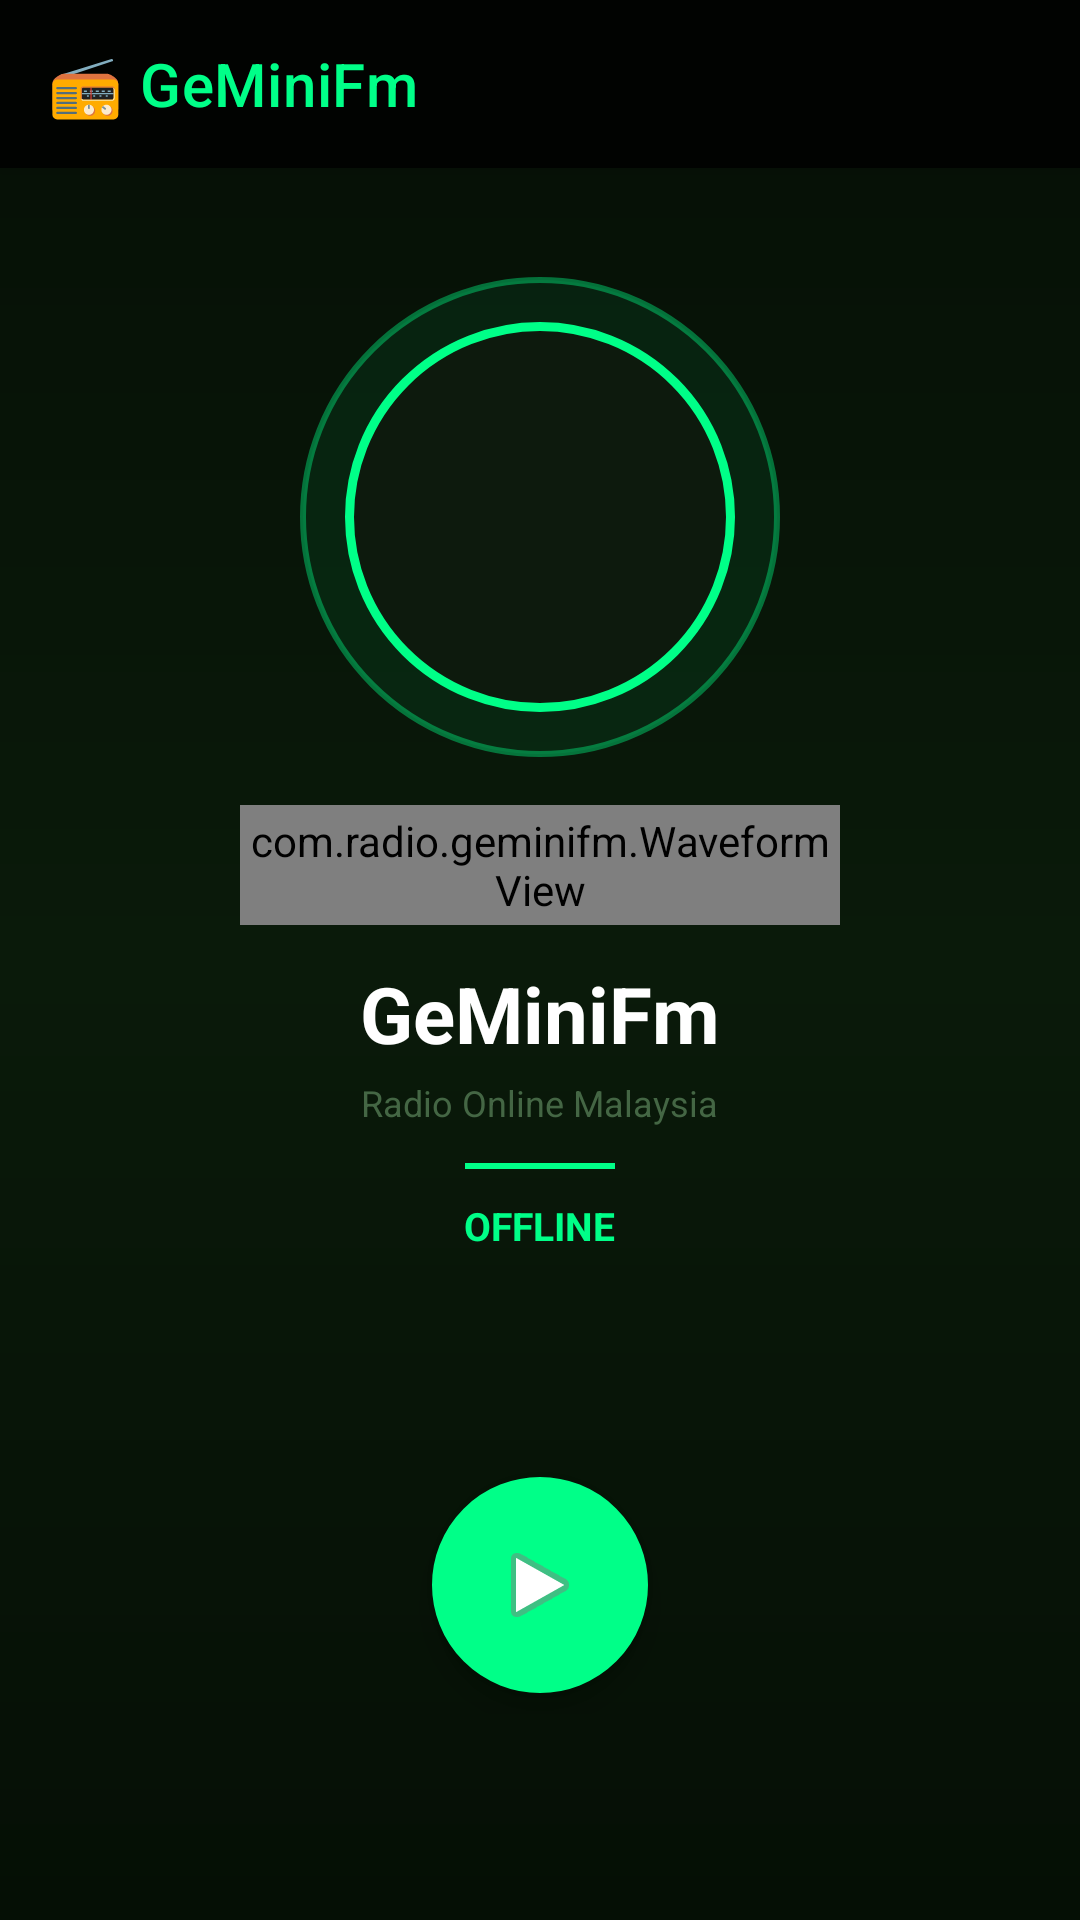

Icon click points for this 1080px x 1920px phone screenshot, format (x=x, y=y):
play: (x=540, y=1585)
